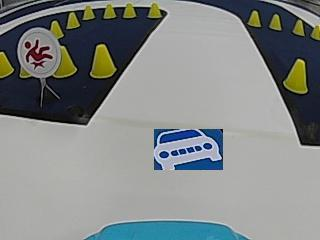cone: (283, 56, 307, 95), (90, 43, 115, 78), (53, 48, 77, 79), (0, 51, 13, 79), (247, 9, 261, 28), (49, 19, 63, 38), (123, 2, 137, 18), (66, 12, 79, 29), (103, 2, 116, 19), (148, 1, 161, 18), (269, 13, 281, 30), (293, 18, 304, 36), (82, 4, 94, 20), (310, 23, 319, 40), (19, 65, 29, 78)
tumble: (25, 35, 58, 71)
